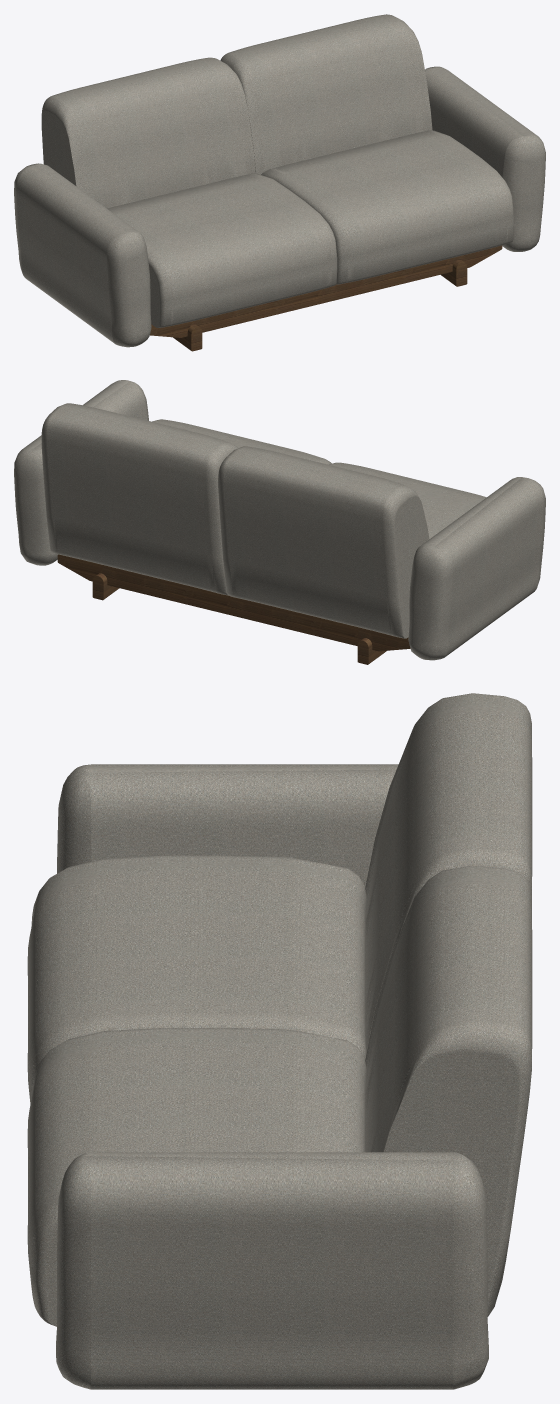
The model's file is furnituresofas-armchairscider-la-manufacturepola-sofa.fbx.
The picture shows the model from 3 angles, top to bottom: view 1: azimuth 30°, elevation 25°; view 2: azimuth 150°, elevation 25°; view 3: azimuth 270°, elevation 25°; orthographic projection. The views are drawn at different scales.
Visible parts, largest first — view 1: L_d9085ea5_2f91_480c_b60c_d8795f9f7b4b_C1_I7, L_452304b2_e60b_4fbf_94c8_c71a5a7283f1_C1_I3, L_1b7d8e98_2e04_4478_92d8_d57e2d75a81e_C1_I1, L_41c5bfe3_ec11_46b0_8b01_7493fe0f9b1a_C1_I2, L_d9f2ee03_4e91_4083_8369_f5b1a6054688_C1_I8, L_c0a62973_0a0d_4756_bad9_934d8c002fde_C1_I6, L_88fa6588_c483_40b3_aaeb_1436df2fe06b_C1_I5; view 2: L_d9085ea5_2f91_480c_b60c_d8795f9f7b4b_C1_I7, L_452304b2_e60b_4fbf_94c8_c71a5a7283f1_C1_I3, L_1b7d8e98_2e04_4478_92d8_d57e2d75a81e_C1_I1, L_863a4948_8638_44e7_bf92_076f845f97bb_C1_I4, L_41c5bfe3_ec11_46b0_8b01_7493fe0f9b1a_C1_I2, L_c0a62973_0a0d_4756_bad9_934d8c002fde_C1_I6, L_88fa6588_c483_40b3_aaeb_1436df2fe06b_C1_I5; view 3: L_41c5bfe3_ec11_46b0_8b01_7493fe0f9b1a_C1_I2, L_452304b2_e60b_4fbf_94c8_c71a5a7283f1_C1_I3, L_d9085ea5_2f91_480c_b60c_d8795f9f7b4b_C1_I7, L_1b7d8e98_2e04_4478_92d8_d57e2d75a81e_C1_I1.
Part boxes in pixels (bbox=[...]): L_d9085ea5_2f91_480c_b60c_d8795f9f7b4b_C1_I7: bbox=[41, 57, 337, 327]; L_452304b2_e60b_4fbf_94c8_c71a5a7283f1_C1_I3: bbox=[220, 14, 513, 284]; L_1b7d8e98_2e04_4478_92d8_d57e2d75a81e_C1_I1: bbox=[14, 163, 151, 347]; L_41c5bfe3_ec11_46b0_8b01_7493fe0f9b1a_C1_I2: bbox=[425, 66, 545, 251]; L_d9f2ee03_4e91_4083_8369_f5b1a6054688_C1_I8: bbox=[150, 245, 502, 337]; L_c0a62973_0a0d_4756_bad9_934d8c002fde_C1_I6: bbox=[173, 324, 202, 351]; L_88fa6588_c483_40b3_aaeb_1436df2fe06b_C1_I5: bbox=[440, 260, 467, 286]; L_d9085ea5_2f91_480c_b60c_d8795f9f7b4b_C1_I7: bbox=[218, 446, 486, 638]; L_452304b2_e60b_4fbf_94c8_c71a5a7283f1_C1_I3: bbox=[41, 403, 331, 595]; L_1b7d8e98_2e04_4478_92d8_d57e2d75a81e_C1_I1: bbox=[408, 477, 545, 660]; L_863a4948_8638_44e7_bf92_076f845f97bb_C1_I4: bbox=[57, 554, 410, 651]; L_41c5bfe3_ec11_46b0_8b01_7493fe0f9b1a_C1_I2: bbox=[14, 380, 148, 565]; L_c0a62973_0a0d_4756_bad9_934d8c002fde_C1_I6: bbox=[357, 638, 386, 664]; L_88fa6588_c483_40b3_aaeb_1436df2fe06b_C1_I5: bbox=[92, 573, 119, 600]; L_41c5bfe3_ec11_46b0_8b01_7493fe0f9b1a_C1_I2: bbox=[56, 1152, 488, 1389]; L_452304b2_e60b_4fbf_94c8_c71a5a7283f1_C1_I3: bbox=[27, 865, 532, 1326]; L_d9085ea5_2f91_480c_b60c_d8795f9f7b4b_C1_I7: bbox=[27, 693, 532, 1104]; L_1b7d8e98_2e04_4478_92d8_d57e2d75a81e_C1_I1: bbox=[57, 764, 398, 887].
Size of the model in its own units: 1978 by 989 by 807.
2 materials, 2 textured.
